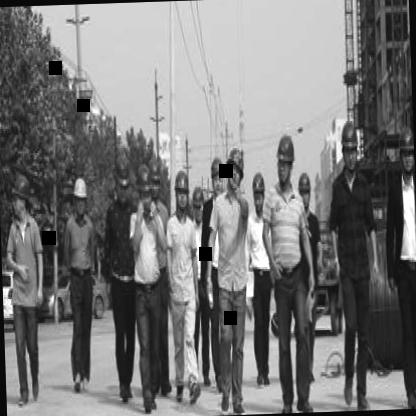helmet: (6, 167, 31, 228), (273, 129, 297, 186), (112, 150, 134, 207), (340, 121, 362, 176), (223, 144, 247, 192), (170, 168, 192, 218), (135, 164, 155, 216), (396, 125, 415, 178), (71, 174, 91, 219), (250, 170, 268, 219), (297, 166, 315, 211), (210, 155, 227, 201), (191, 181, 208, 225), (149, 156, 163, 199)
